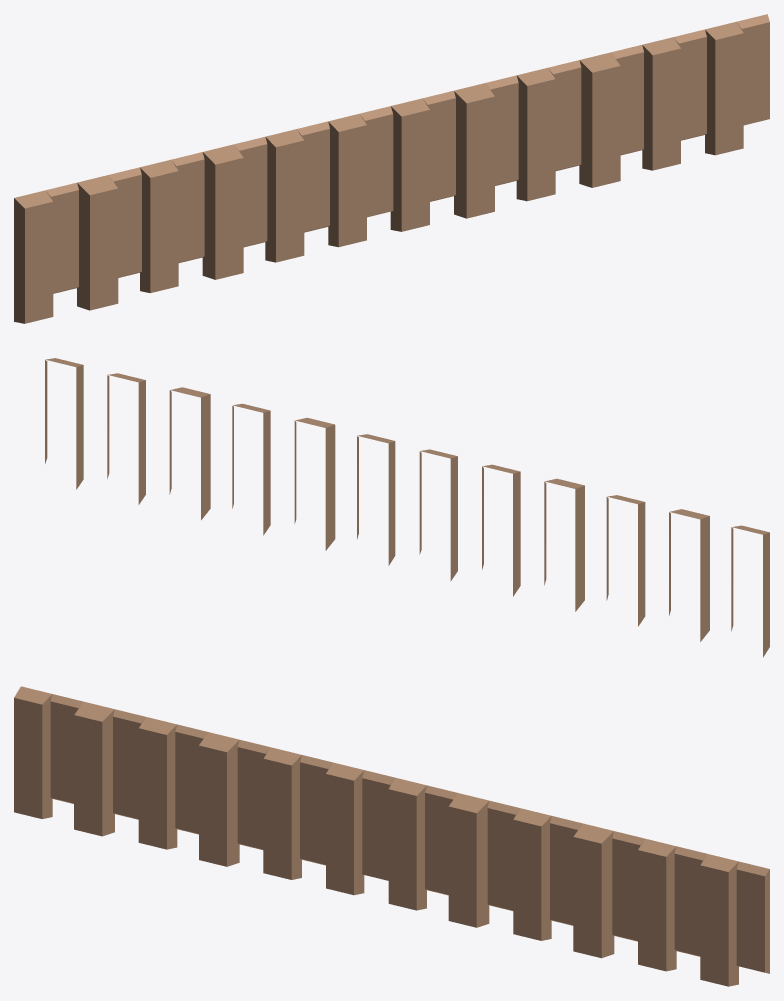
File: env_block_brick_ornament_horizontal.glb
3 renders of one model, top to bottom at view 1: azimuth 30°, elevation 25°; view 2: azimuth 150°, elevation 25°; view 3: azimuth 330°, elevation 25°, orthographic.
Visible parts, largest first — view 1: geometry_0; view 2: geometry_0; view 3: geometry_0.
Part boxes in pixels (left/top/right/bottom): geometry_0: left=14, top=14, right=769, bottom=323; geometry_0: left=45, top=358, right=769, bottom=657; geometry_0: left=14, top=686, right=769, bottom=986.
Size of the model in its own units: 2 by 0.314 by 0.0514.
